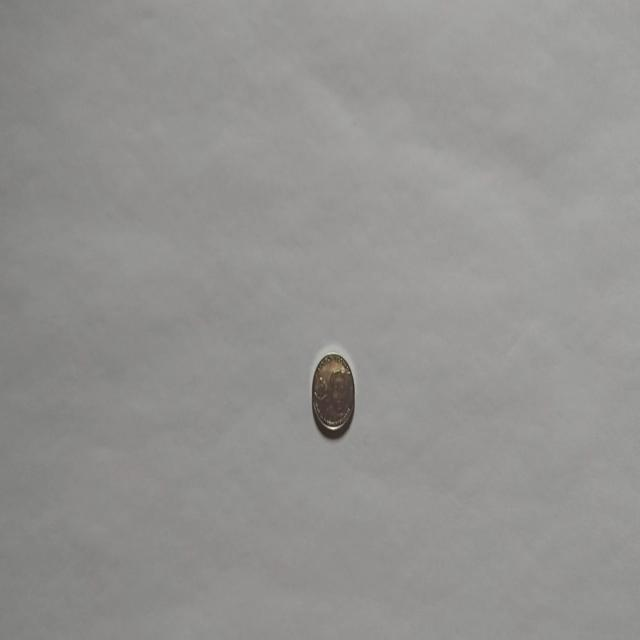seratus rupiah: (310, 351, 356, 437)
